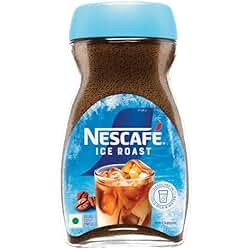Coffee: (61, 2, 188, 250)
